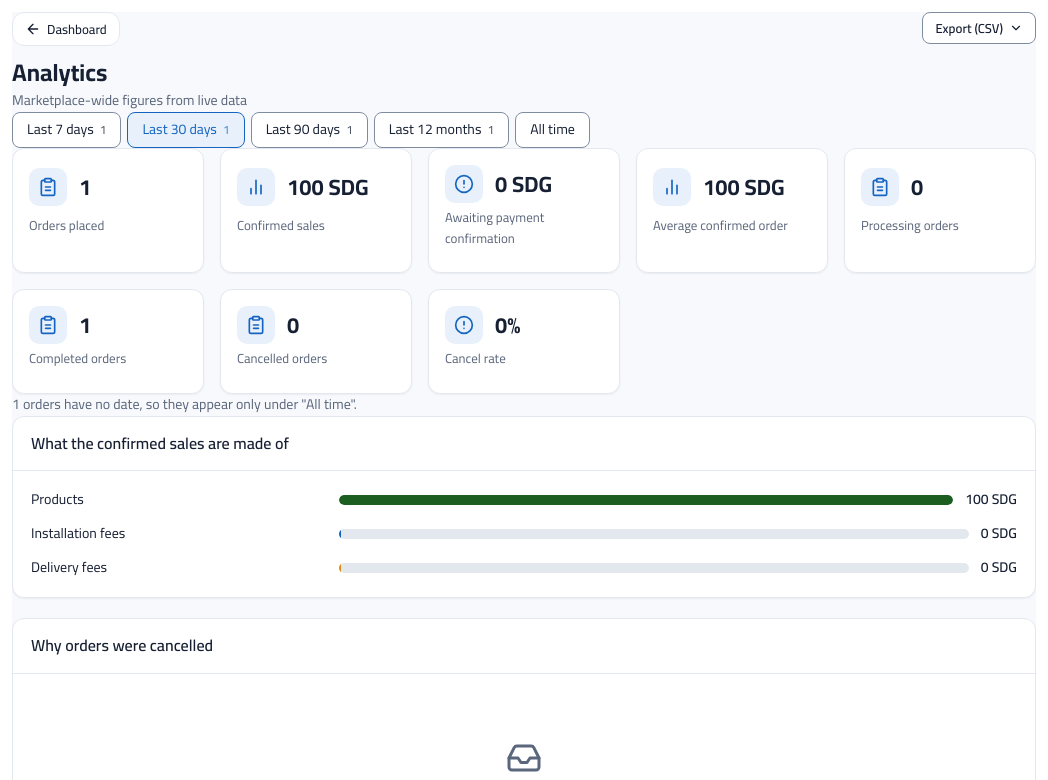
Test case: Analytics page › says how many orders have no date, outside "All time"
Expected: the text "1 orders have no date, so they appear only under \"All time\"." is shown, [12, 391, 357, 417]
Click the button "All time". click: (553, 130)
box: [515, 112, 590, 148]
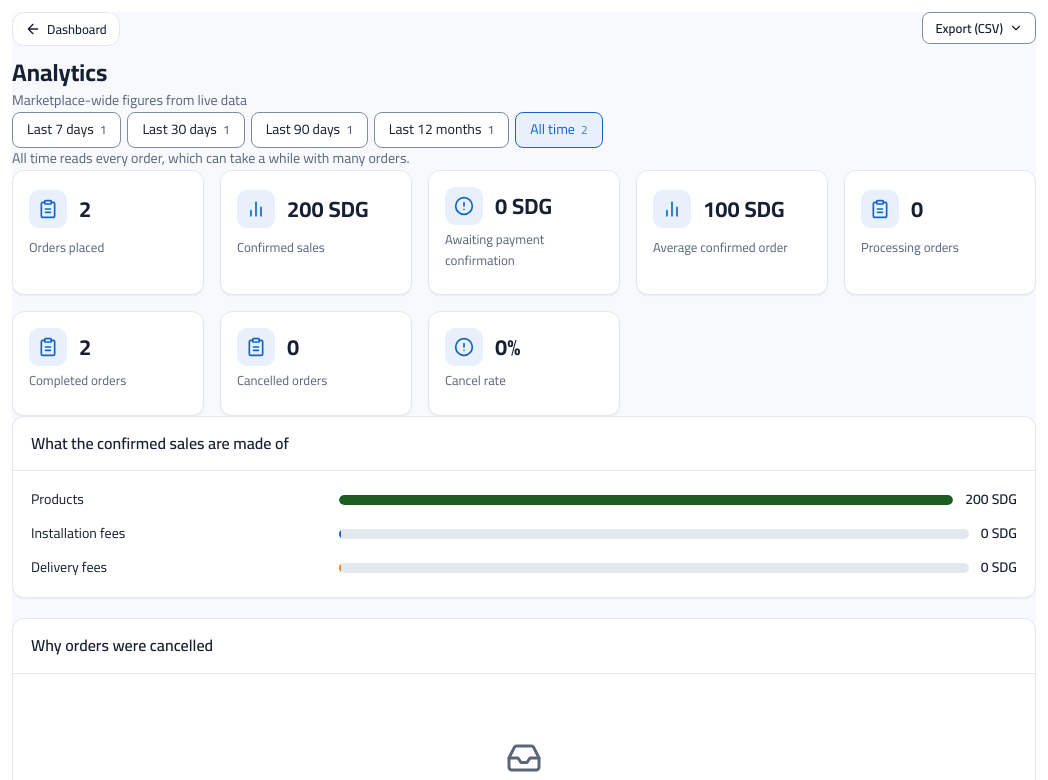
Now the text "have no date" is gone
